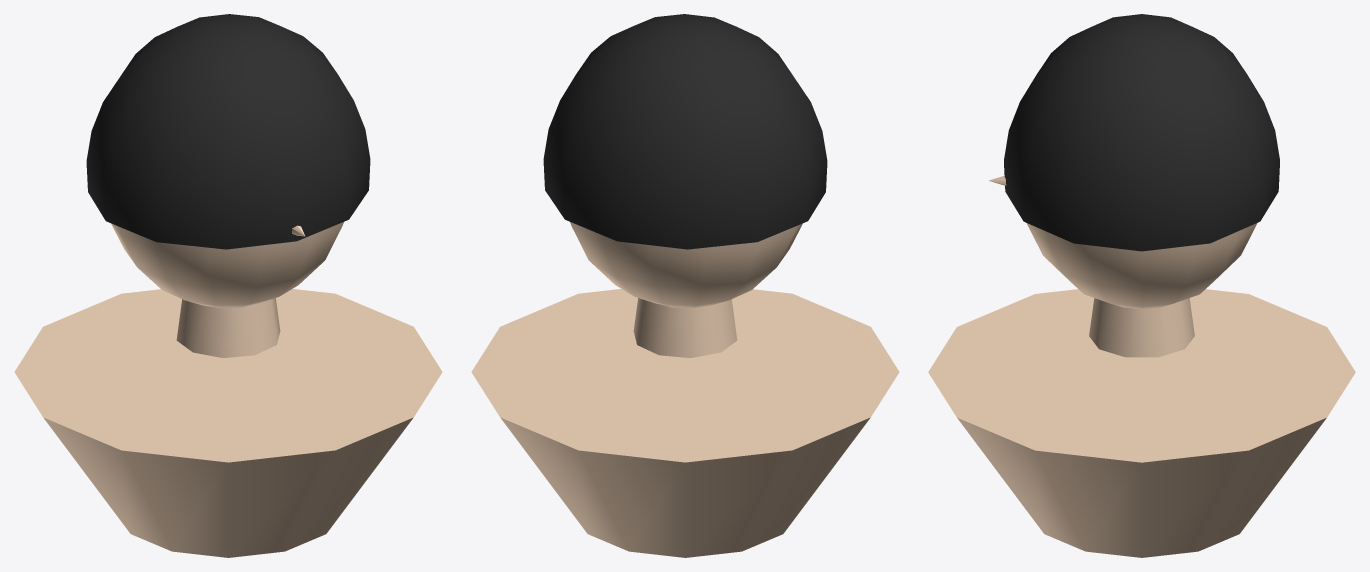
File: raw_002.glb
3 views of the same model, side by side, from view 1: azimuth 30°, elevation 25°; view 2: azimuth 150°, elevation 25°; view 3: azimuth 270°, elevation 25° (orthographic).
Bounding box in the file's own units: 1.7 × 2.12 × 1.7.
